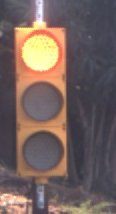Red: (8, 18, 73, 188)
